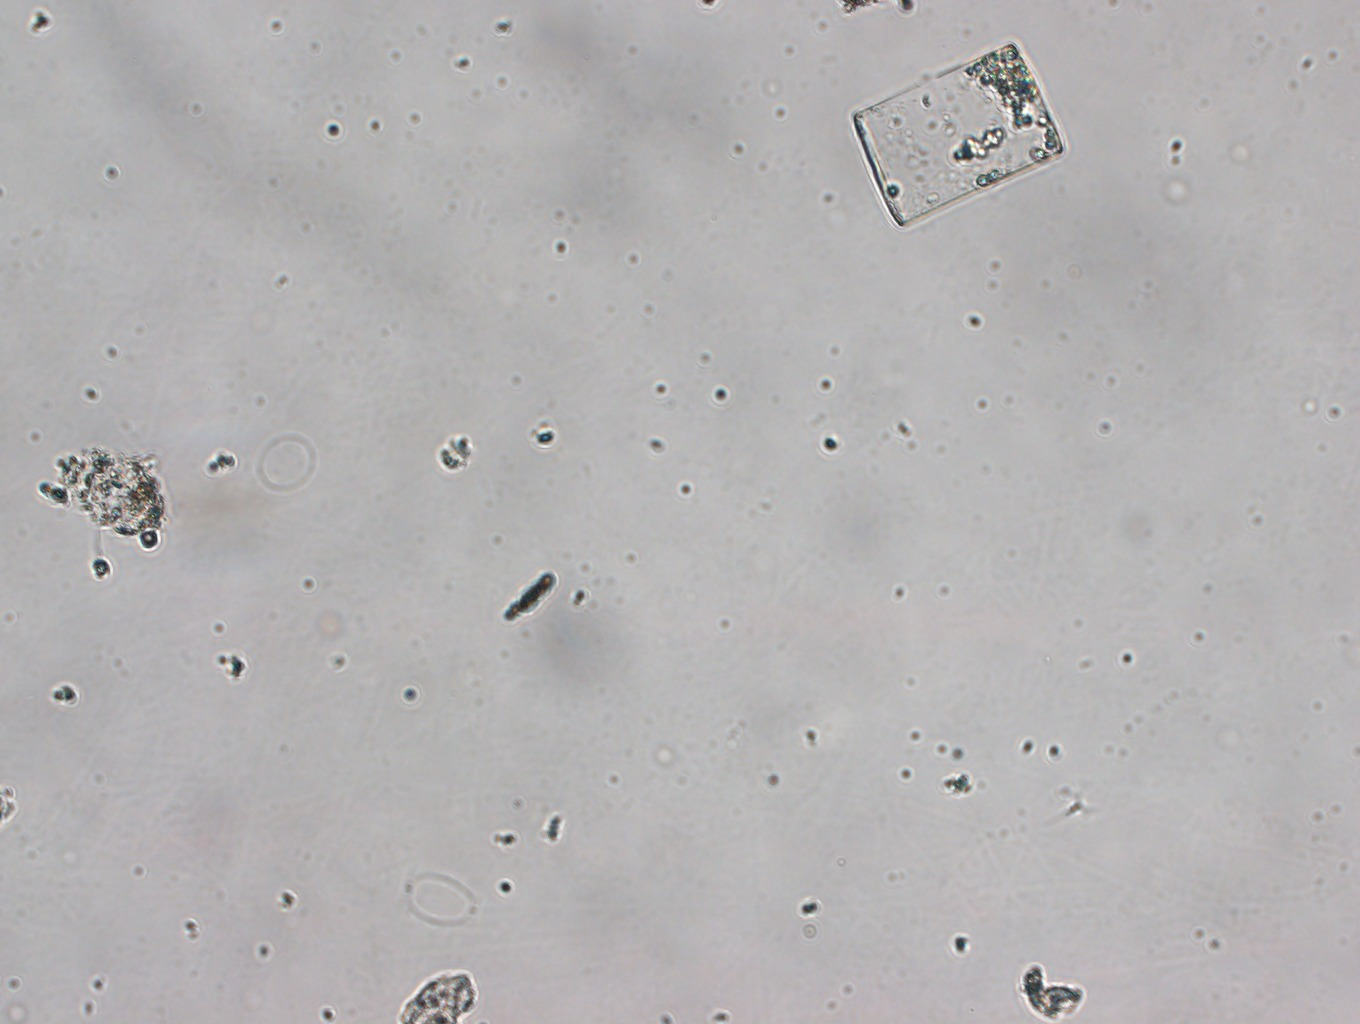guinardia flaccida: (841, 35, 1069, 233)
